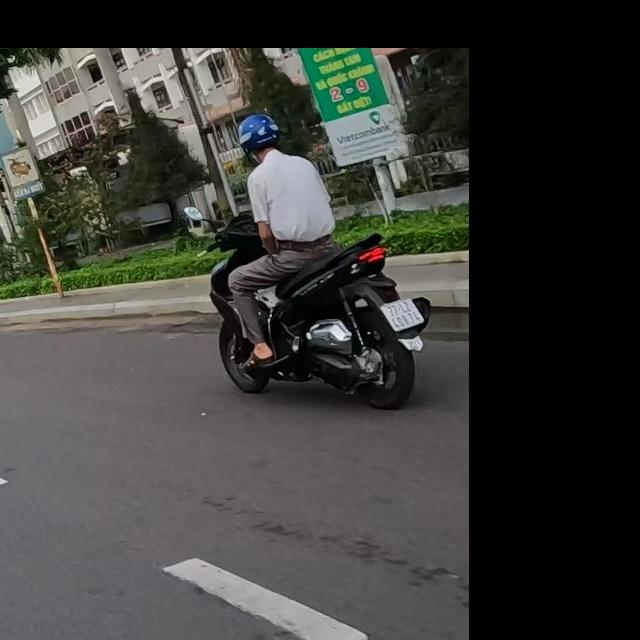license-plate: (379, 298, 426, 332)
